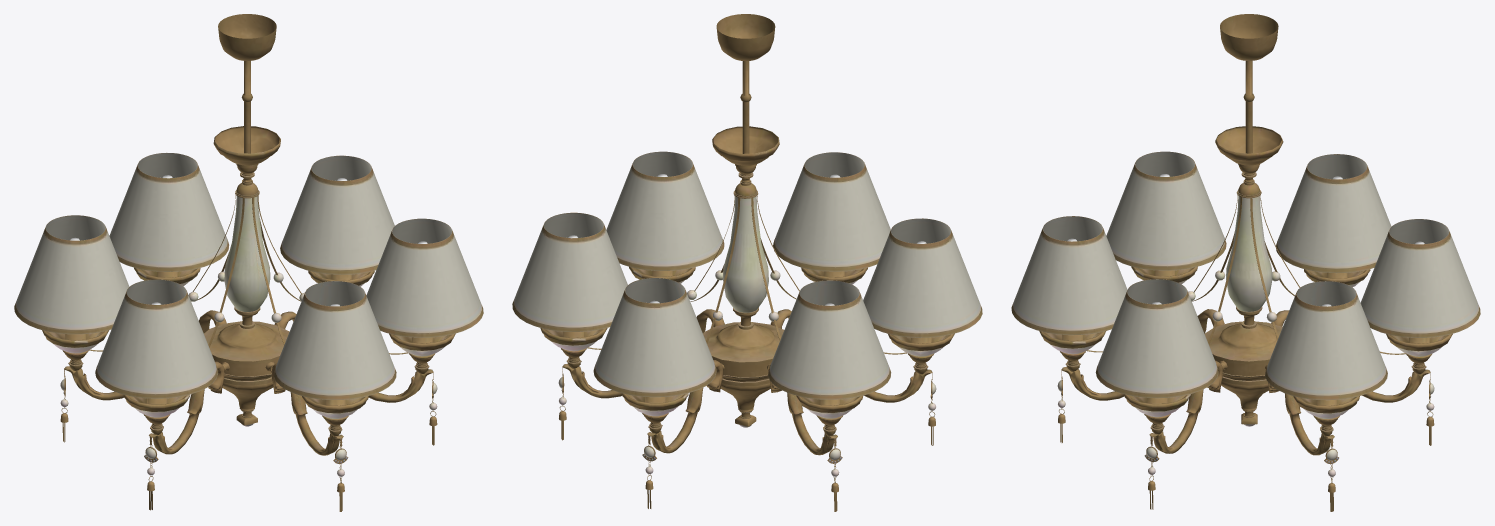
File: light-chandelier-1.glb
3 views of the same model, side by side, from view 1: azimuth 30°, elevation 25°; view 2: azimuth 150°, elevation 25°; view 3: azimuth 270°, elevation 25° (orthographic).
Parts seen in each view (by area): view 1: Chandelier_01; view 2: Chandelier_01; view 3: Chandelier_01.
Part boxes in pixels (x1,y1,x2,y2): Chandelier_01: (14, 14, 483, 511); Chandelier_01: (512, 14, 982, 511); Chandelier_01: (1011, 14, 1480, 511).
Size of the model in its own units: 0.7465 by 0.7983 by 0.8155.
Materials: 2 (1 with a texture image).
